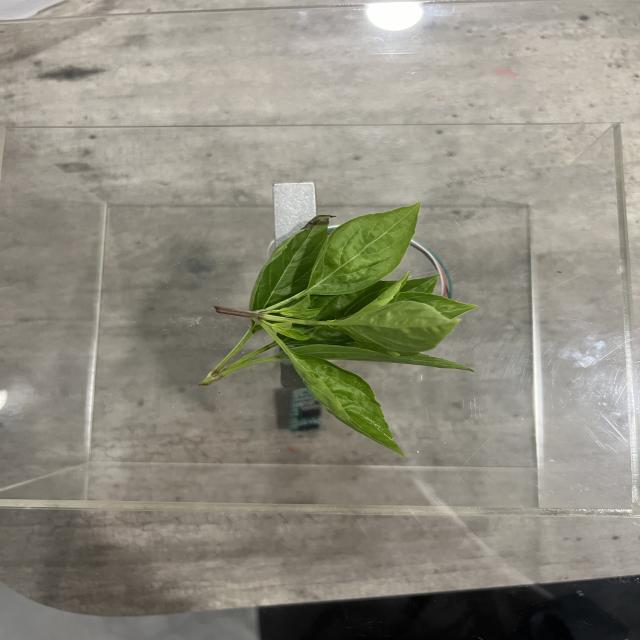thai basil: (208, 201, 479, 459)
